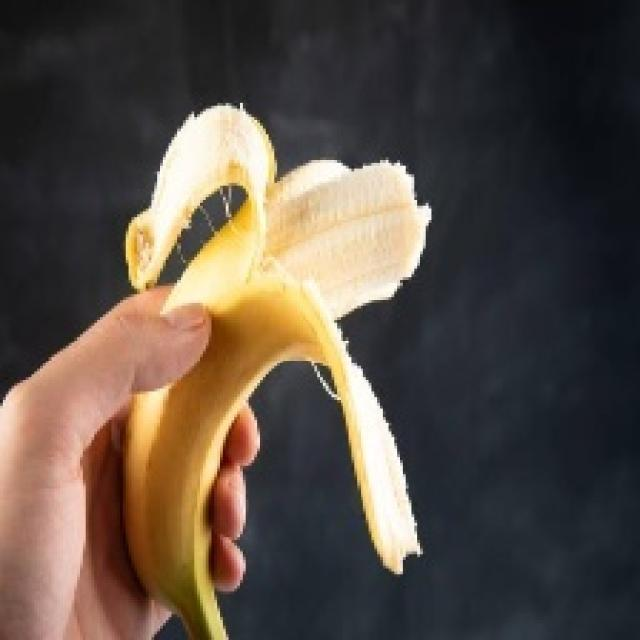Banana: (117, 100, 432, 637)
